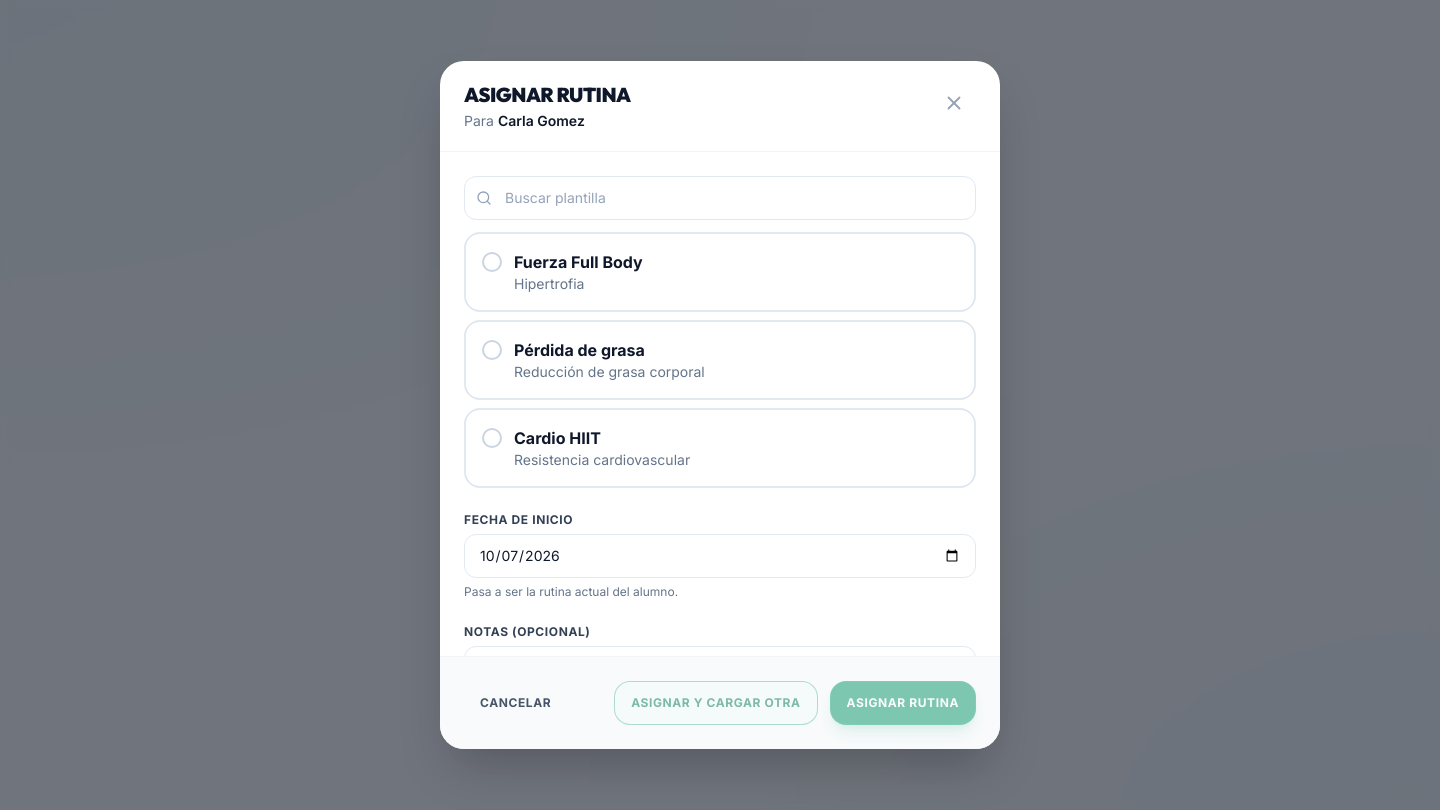
Scenario: AssignRoutineModal - buscador de plantillas (AC-0007-10) › filtra por nombre u objetivo sin distinguir mayúsculas
Expected: the element named "Plantillas de rutina" is shown, [464,232,976,488]
Step 1. Type "grasa" into the field with placeholder "Buscar plantilla" → (720, 198), box [464,176,976,220]
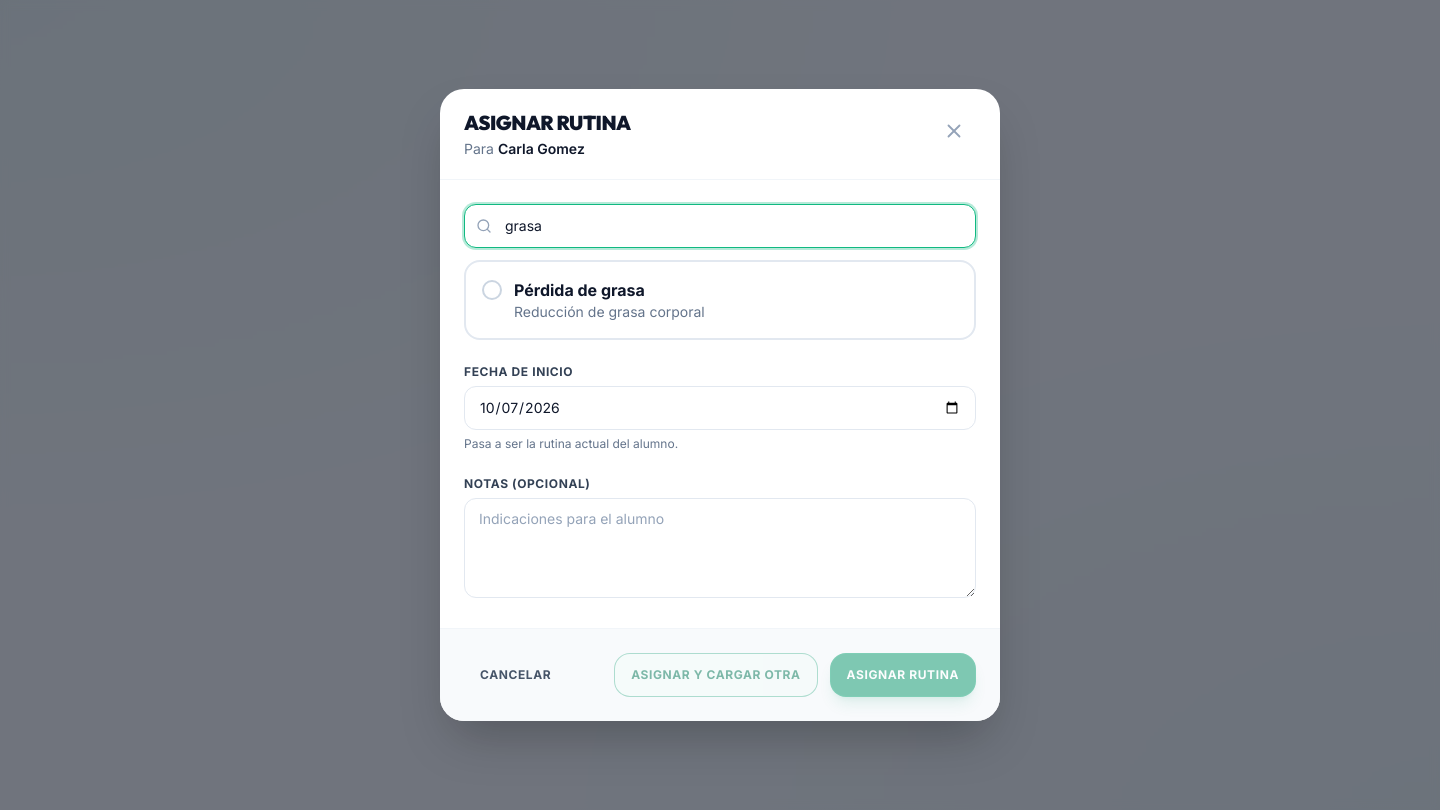
Expected: the text "Pérdida de grasa" is shown, [514,278,645,302]
Now the number of radio buttons is 1, box [464,260,976,340]
